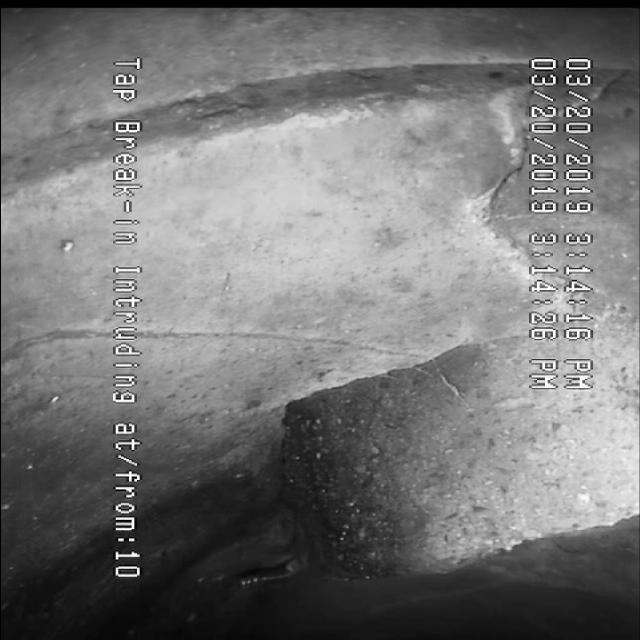Crack: (178, 302, 442, 374), (450, 154, 536, 243)
